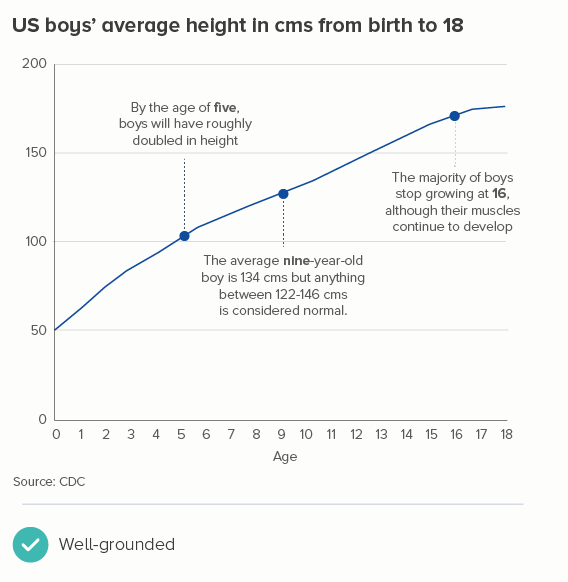OK_NoIssue: (27, 403, 522, 475)
